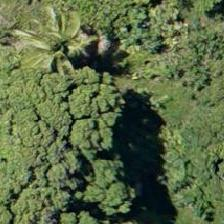coconut_tree: (10, 0, 100, 86)
